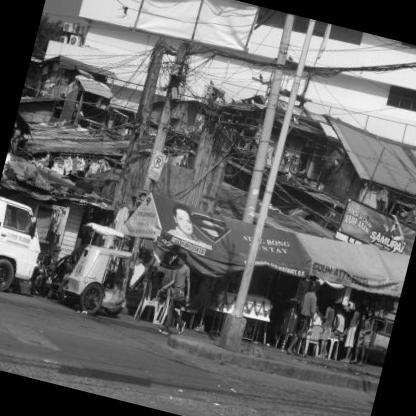truck: (1, 193, 62, 311)
